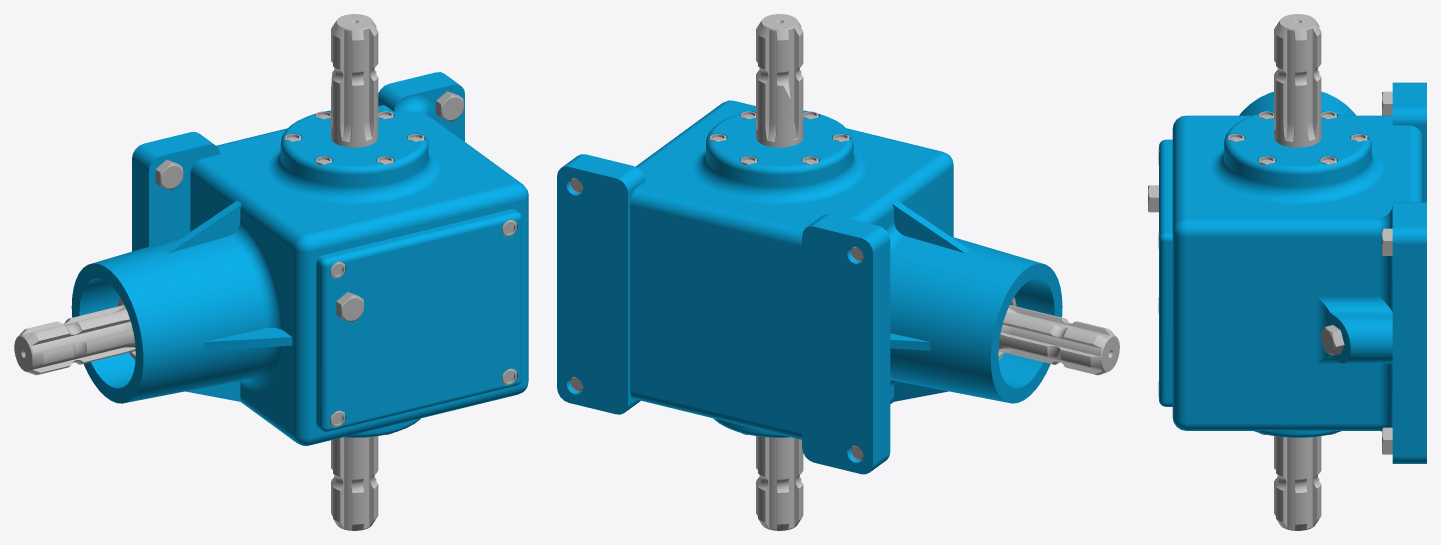
The picture shows the model from 3 angles, left to right: view 1: azimuth 30°, elevation 25°; view 2: azimuth 150°, elevation 25°; view 3: azimuth 270°, elevation 25°; orthographic projection.
Parts seen in each view (by area): view 1: Оболочка (×8); view 2: Оболочка (×4); view 3: Оболочка (×6).
Part boxes in pixels (x1,y1,x2,y2): Оболочка (×8): (14,14,528,530); Оболочка (×4): (557,14,1119,530); Оболочка (×6): (1159,14,1426,530).
Bounding box in the file's own units: 413 × 405 × 204.
